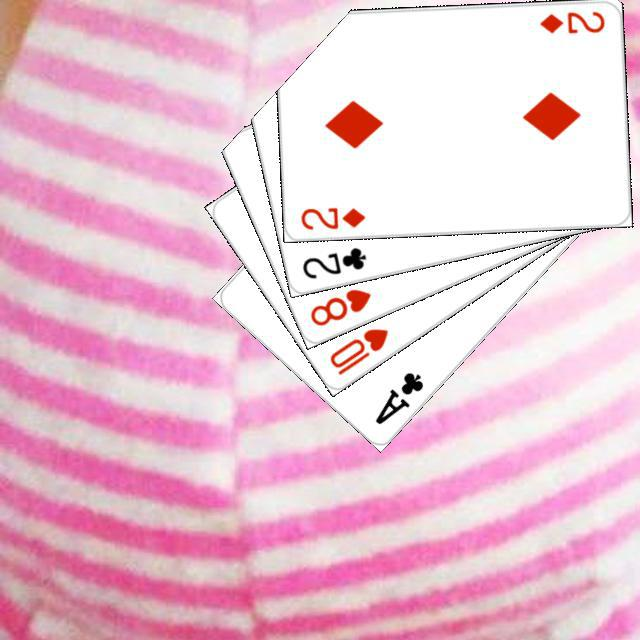10h: (324, 323, 390, 377)
2c: (297, 242, 368, 281)
2d: (296, 202, 367, 232), (535, 6, 606, 36)
8h: (305, 284, 373, 328)
Ac: (369, 367, 426, 427)
